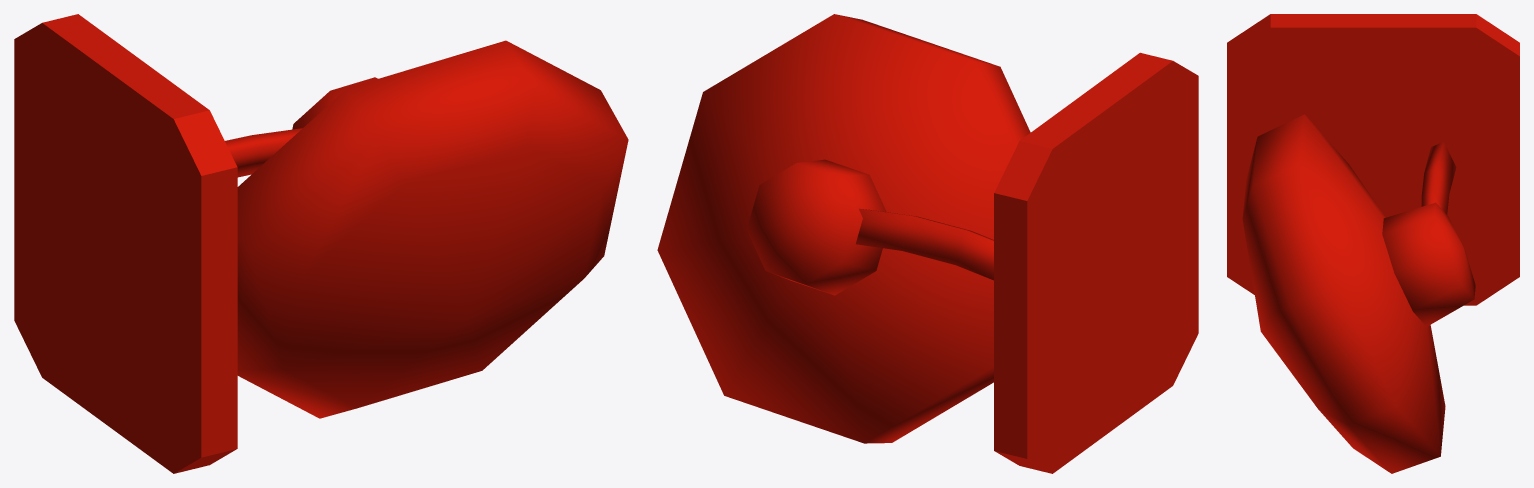
The model's file is UCX_fan_small2.fbx.
3 views of the same model, side by side, from view 1: azimuth 30°, elevation 25°; view 2: azimuth 150°, elevation 25°; view 3: azimuth 270°, elevation 25° (orthographic). The views are drawn at different scales.
Parts seen in each view (by area): view 1: UCX_fan_small2; view 2: UCX_fan_small2; view 3: UCX_fan_small2.
Part boxes in pixels (x1,y1,x2,y2): UCX_fan_small2: [14, 14, 628, 473]; UCX_fan_small2: [657, 14, 1198, 473]; UCX_fan_small2: [1227, 14, 1519, 473].
Size of the model in its own units: 0.5389 by 0.4414 by 0.3616.
